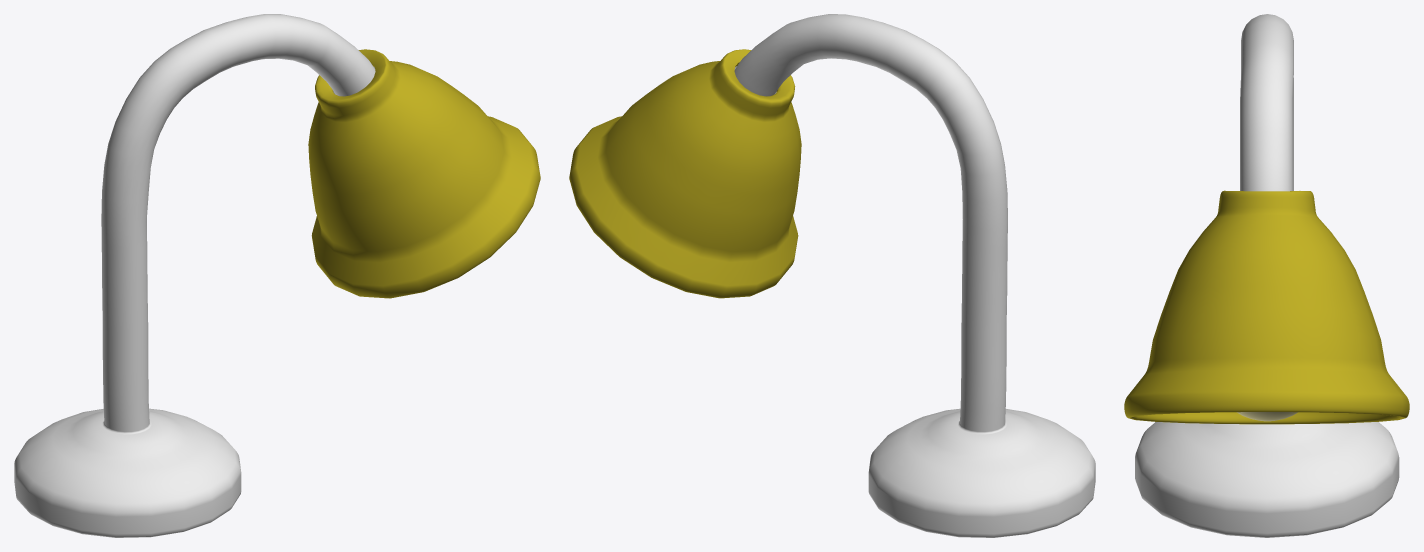
Rendered from lamp.fbx.
3 renders of one model, left to right at view 1: azimuth 30°, elevation 25°; view 2: azimuth 150°, elevation 25°; view 3: azimuth 270°, elevation 25°, orthographic. The views are drawn at different scales.
Visible parts, largest first — view 1: base3, fixture; view 2: base3, fixture; view 3: fixture, base3, Bulb2.
Part boxes in pixels (x1,y1,x2,y2): base3: (14, 14, 375, 537); fixture: (308, 49, 540, 298); base3: (734, 14, 1095, 537); fixture: (569, 49, 801, 298); fixture: (1124, 190, 1409, 424); base3: (1135, 14, 1399, 537); Bulb2: (1237, 412, 1297, 421).
Size of the model in its own units: 715 by 612 by 309.
